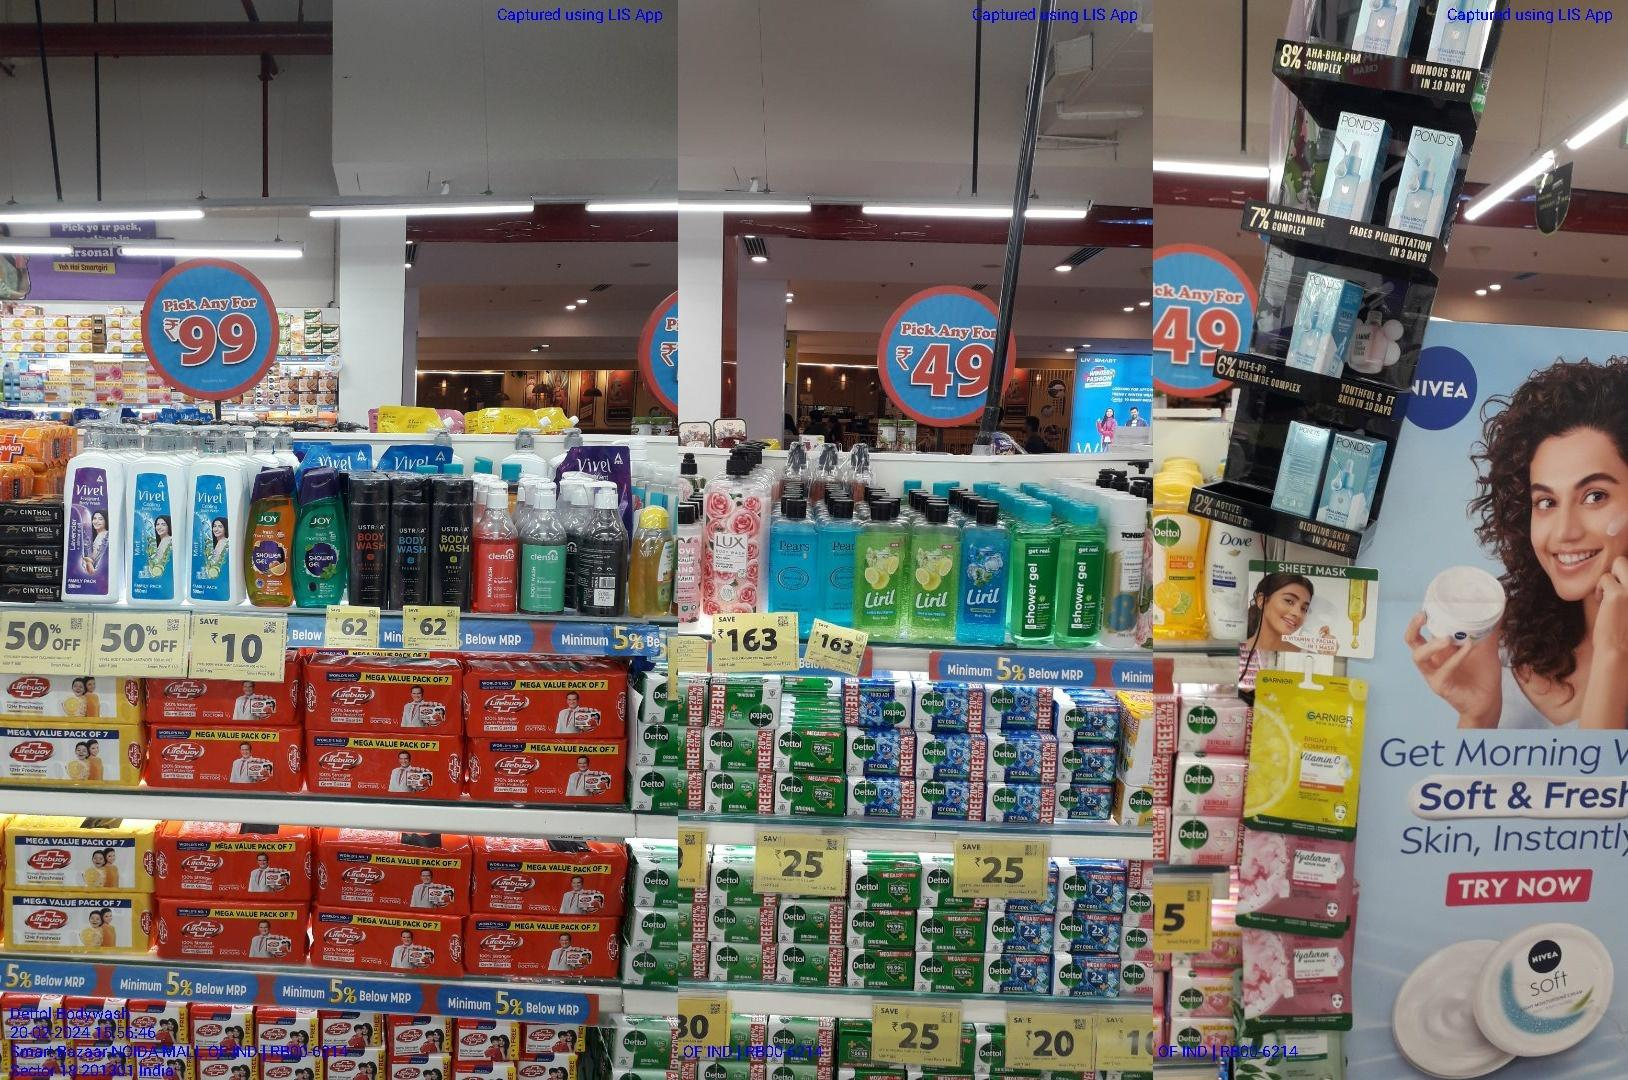Dettol_Bodywash_Refresh: (1153, 479, 1210, 642)
Joy_Shower_Gel_Mandarin_and_Lemongrass_250ML: (243, 471, 293, 609)
Joy_Shower_Gel_Mint_and_Eucalyptus_250ML: (296, 470, 347, 606)
Liril_Cooling_Mint_Body_Wash_250ML: (960, 495, 1009, 644)
Liril_Lime_and_Tea_Tree_Oil_Body_Wash_250ML: (910, 500, 957, 639), (858, 498, 906, 632)
Pears_Pure_Glycerin_and_Mint_Extracts_Body_Wash_250ML: (770, 498, 817, 612), (819, 500, 854, 618)
